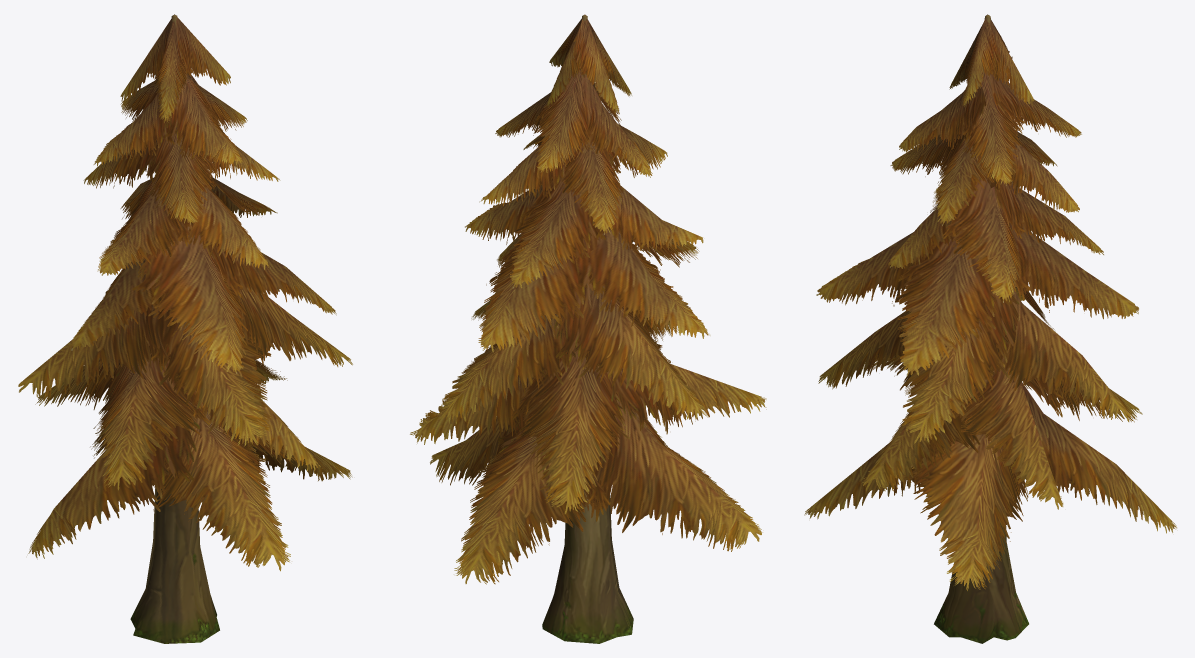
File: Coniferous_red02.FBX
The picture shows the model from 3 angles, left to right: view 1: azimuth 30°, elevation 25°; view 2: azimuth 150°, elevation 25°; view 3: azimuth 270°, elevation 25°; orthographic projection.
Visible parts, largest first — view 1: Coniferous_red02; view 2: Coniferous_red02; view 3: Coniferous_red02.
Part boxes in pixels (x1,y1,x2,y2): Coniferous_red02: (18,14,352,643); Coniferous_red02: (410,14,766,643); Coniferous_red02: (804,14,1176,643).
Size of the model in its own units: 1140 by 2003 by 1131.
